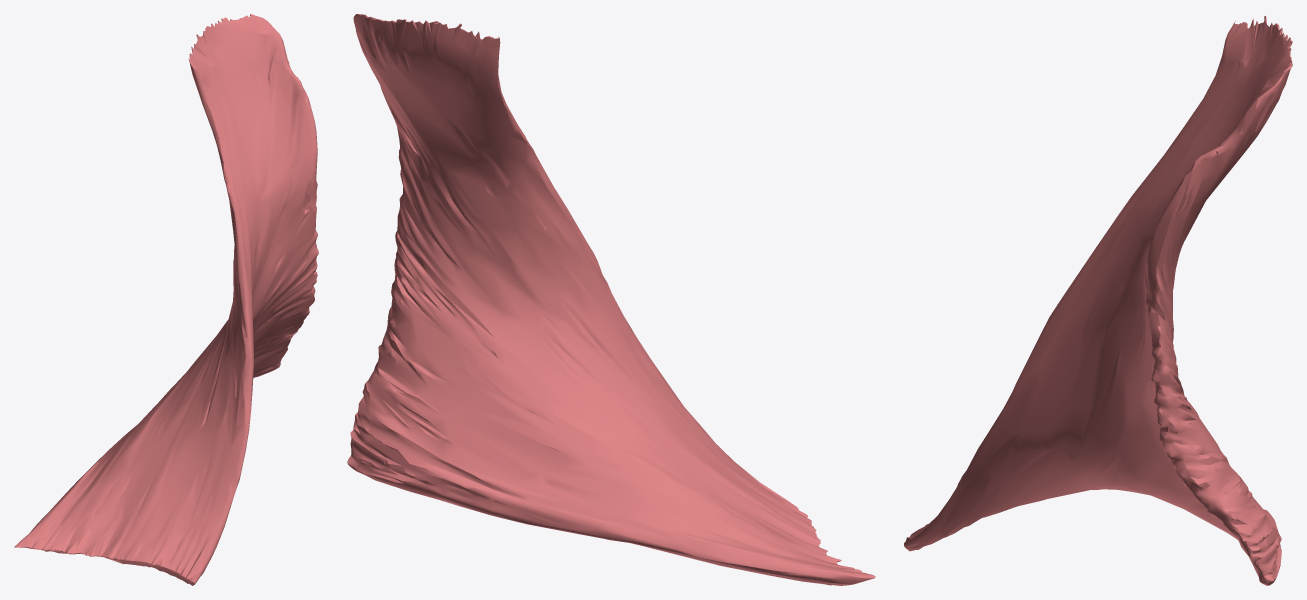
3 renders of one model, left to right at view 1: azimuth 30°, elevation 25°; view 2: azimuth 150°, elevation 25°; view 3: azimuth 270°, elevation 25°, orthographic. The views are drawn at different scales.
Visible parts, largest first — view 1: FJ1521; view 2: FJ1521; view 3: FJ1521.
Part boxes in pixels (x1,y1,x2,y2): FJ1521: [14, 14, 318, 585]; FJ1521: [347, 14, 875, 585]; FJ1521: [904, 16, 1292, 585].
Bounding box in the file's own units: 0.1336 × 0.1648 × 0.0926.
